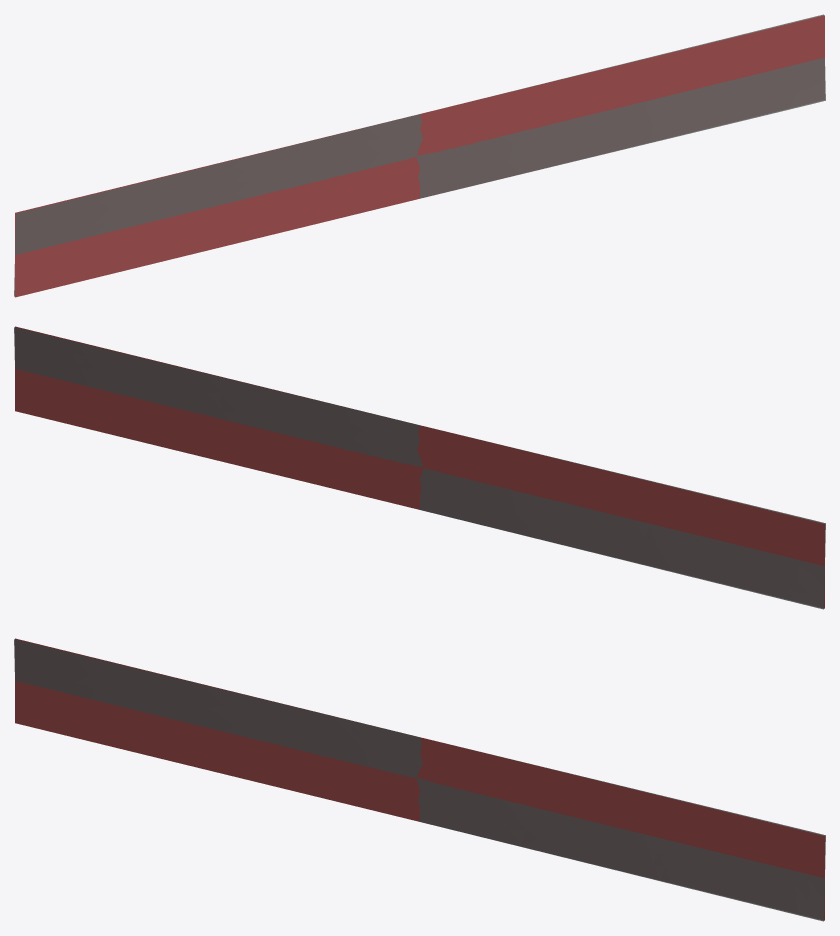
Rendered from warping-rectangle-10-100-375.glb.
3 renders of one model, top to bottom at view 1: azimuth 30°, elevation 25°; view 2: azimuth 150°, elevation 25°; view 3: azimuth 330°, elevation 25°, orthographic.
Parts seen in each view (by area): view 1: undeformed cross-section, cross-section with warping; view 2: undeformed cross-section, cross-section with warping; view 3: undeformed cross-section, cross-section with warping.
Boxes of the visible parts, x1,y1,x2,y2 form: undeformed cross-section: (15, 15, 824, 297); cross-section with warping: (14, 14, 825, 296); undeformed cross-section: (15, 326, 824, 608); cross-section with warping: (14, 327, 825, 609); undeformed cross-section: (15, 638, 824, 920); cross-section with warping: (14, 639, 825, 921).
Size of the model in its own units: 0.1 by 0.01 by 0.000452.
